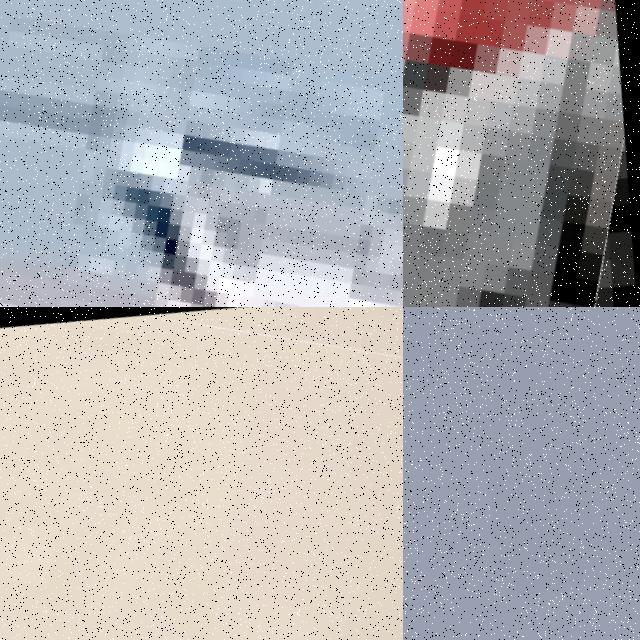0: (0, 0, 403, 307)
drone: (0, 307, 403, 640), (403, 0, 640, 307)
